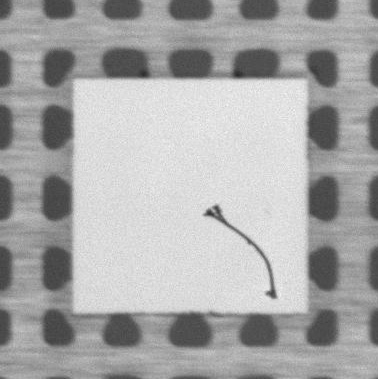DIE_INK: (200, 204, 291, 302)
